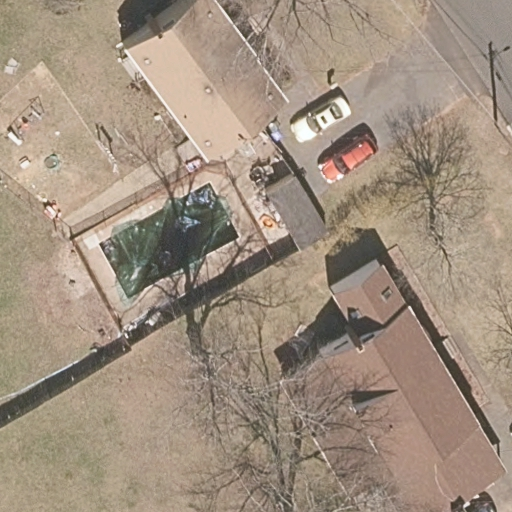DT: (489, 99, 512, 136)
